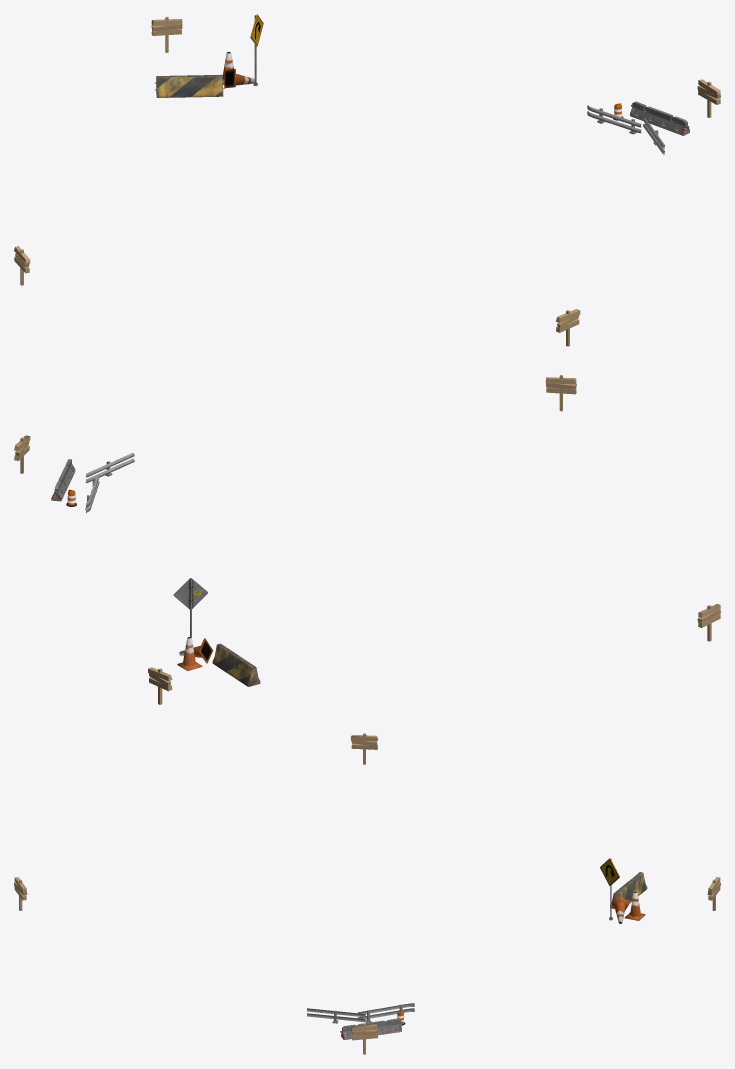
File: barriers.glb
The picture shows the model from 3 angles, top to bottom: view 1: azimuth 30°, elevation 25°; view 2: azimuth 150°, elevation 25°; view 3: azimuth 270°, elevation 25°; orthographic projection. The views are drawn at different scales.
Visible parts, largest first — view 1: signs, SP_CCS_ConcreteBlock_1, SP_HWS_RoadBarrier_1, GuardRail_Highway_2; view 2: signs, SP_CCS_ConcreteBlock_1, DP_HWS_SignHardturn_2; view 3: signs, SP_HWS_RoadBarrier_1, SP_CCS_ConcreteBlock_1.
Part boxes in pixels (left/top/right/bottom): signs: left=14, top=16, right=720, bottom=346; SP_CCS_ConcreteBlock_1: left=155, top=74, right=224, bottom=97; SP_HWS_RoadBarrier_1: left=630, top=101, right=689, bottom=135; GuardRail_Highway_2: left=587, top=105, right=641, bottom=134; signs: left=14, top=375, right=720, bottom=704; SP_CCS_ConcreteBlock_1: left=212, top=643, right=260, bottom=686; DP_HWS_SignHardturn_2: left=173, top=578, right=207, bottom=637; signs: left=14, top=733, right=720, bottom=1054; SP_HWS_RoadBarrier_1: left=340, top=1018, right=402, bottom=1039; SP_CCS_ConcreteBlock_1: left=610, top=872, right=647, bottom=906.
Size of the model in its own units: 54.4 by 5.56 by 55.32.
7 materials, 6 textured.
